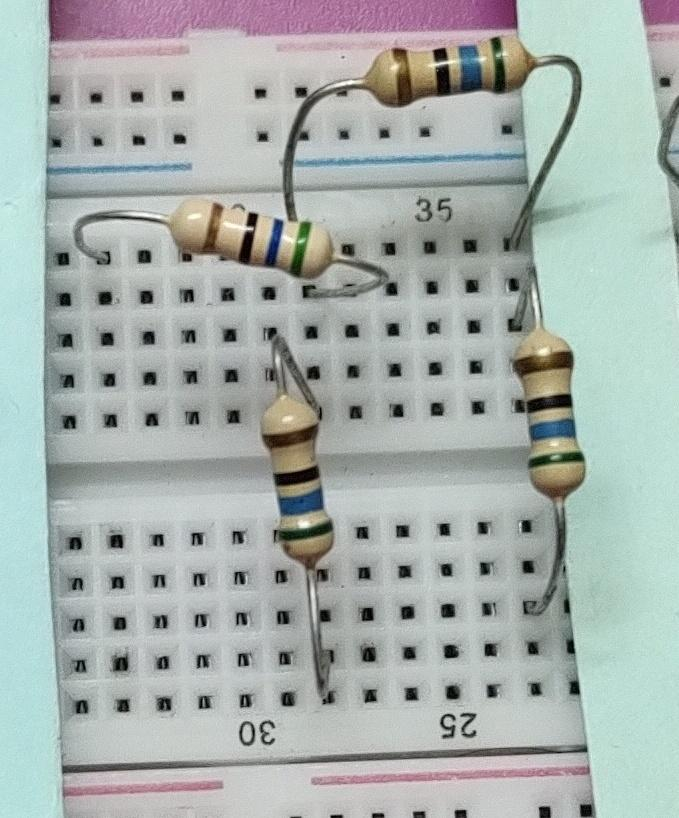resistor: (237, 387, 352, 582), (155, 180, 344, 279), (509, 322, 603, 513), (357, 27, 548, 121)
